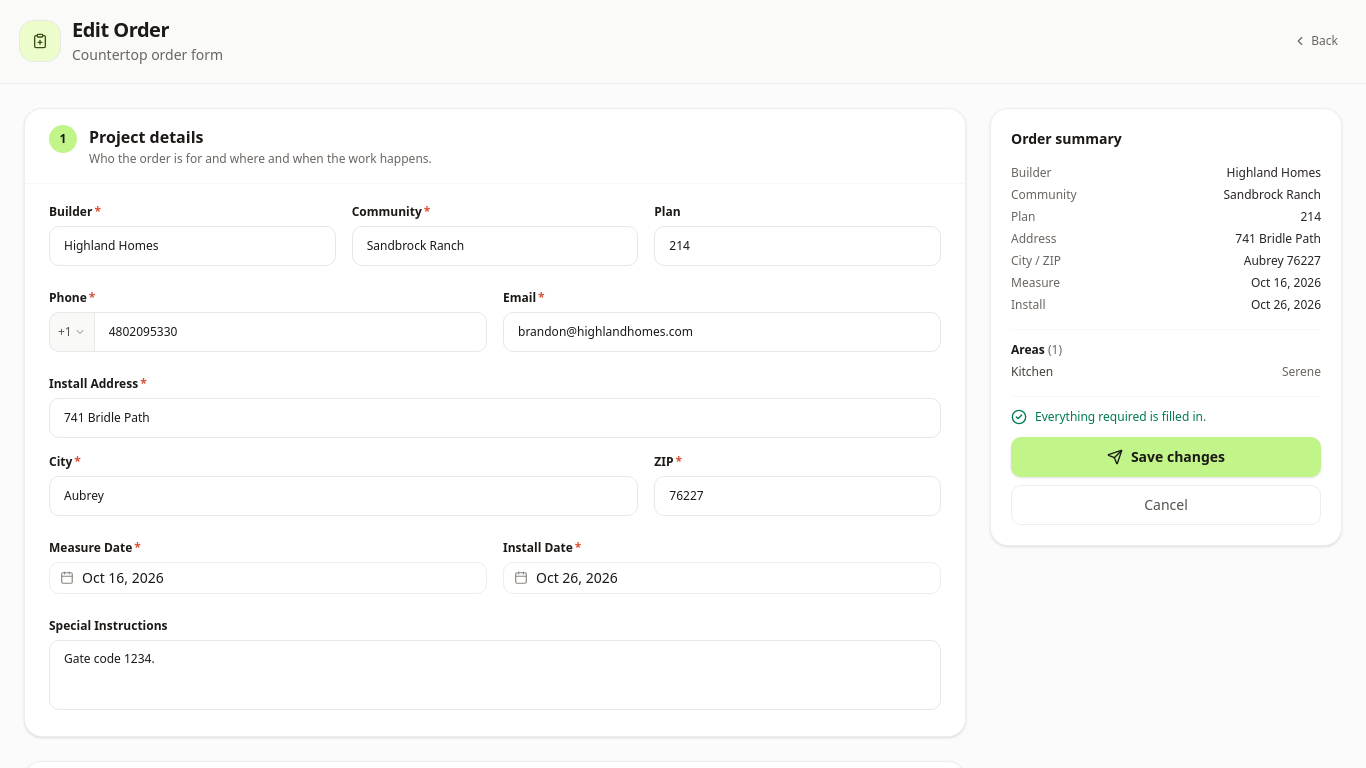
EditCreatedOrderPage › shows the reason and keeps the entries when the server refuses the change
The width and height of the screenshot is (1366, 768).
Click the button "Save changes" at [1166, 457], box [1011,437,1321,477]
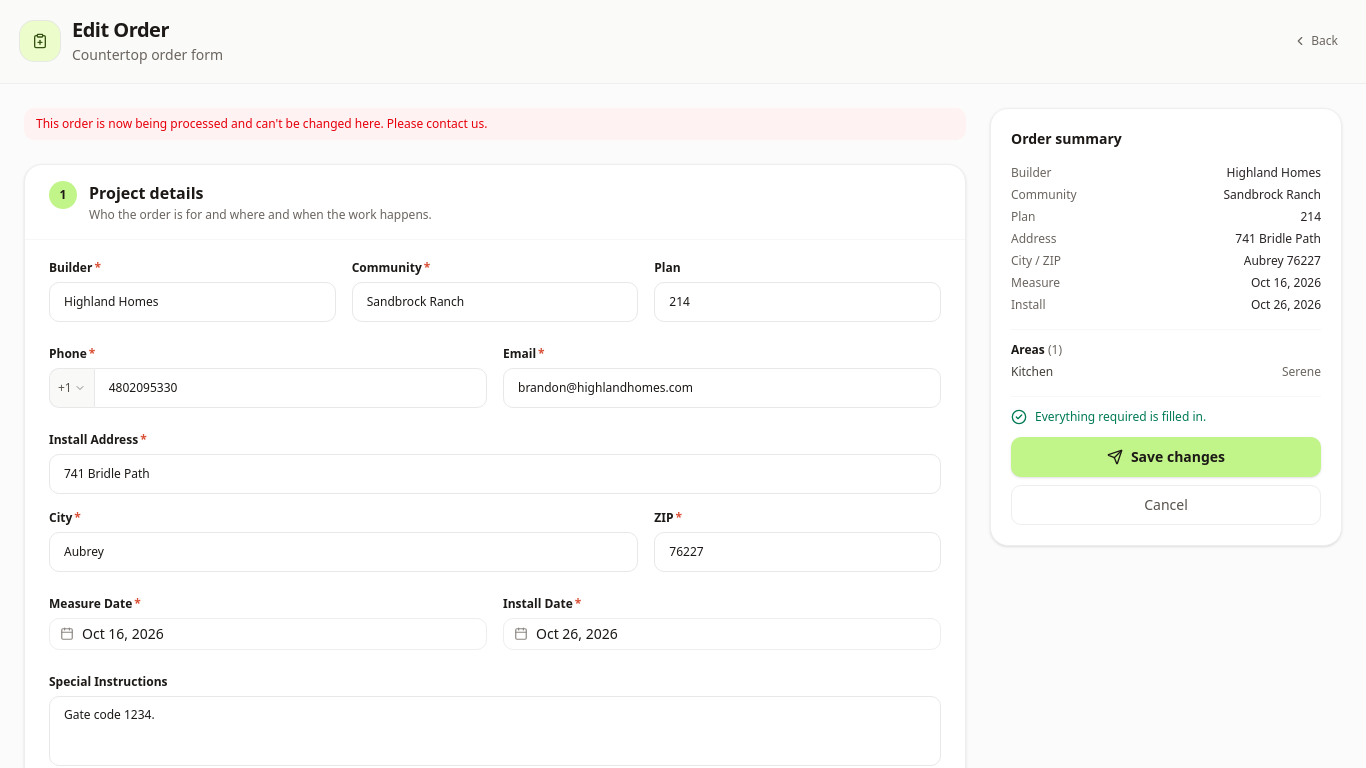
Expected: the field labelled "Builder*" holds "Highland Homes", [49,282,336,322]
Expected: the text "now being processed" is shown, [36,115,487,132]
